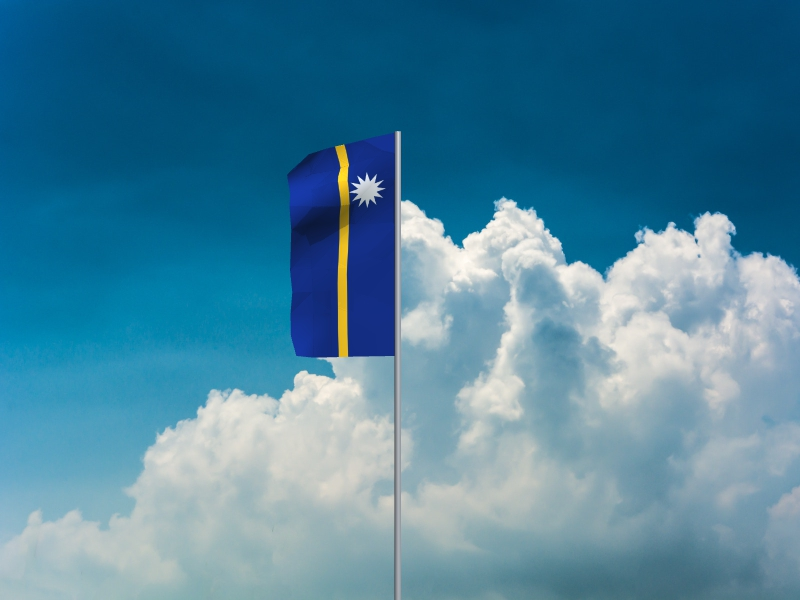nr: (286, 133, 395, 359)
